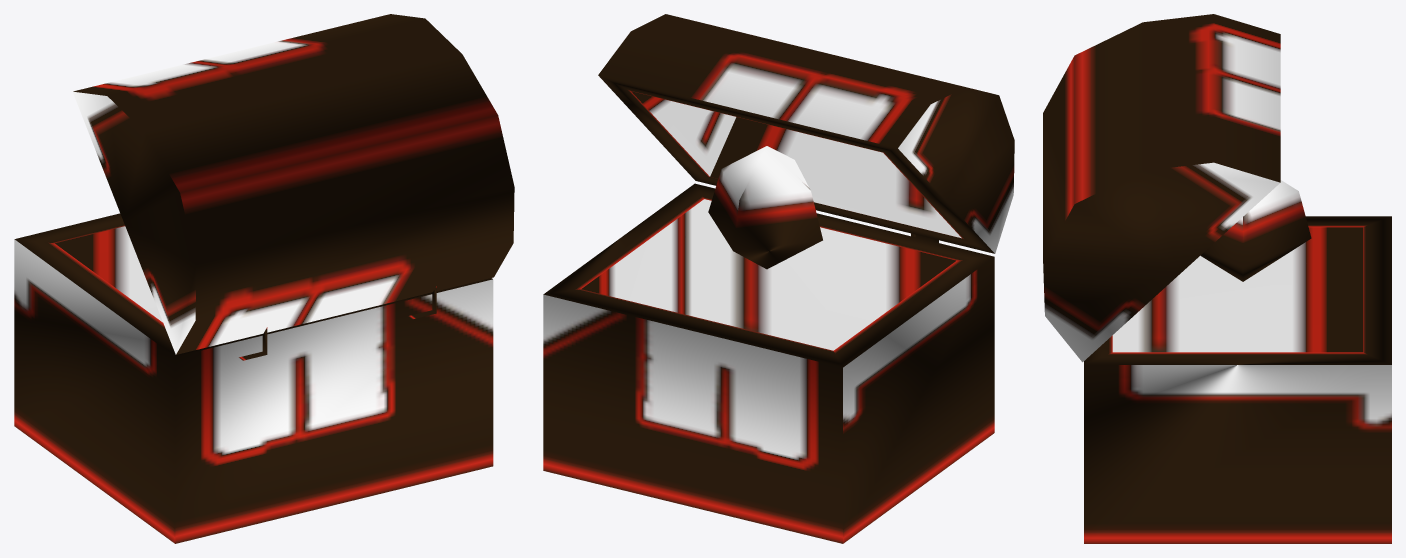
File: list.ico.obj
3 views of the same model, side by side, from view 1: azimuth 30°, elevation 25°; view 2: azimuth 150°, elevation 25°; view 3: azimuth 270°, elevation 25° (orthographic). The views are drawn at different scales.
Size of the model in its own units: 2.49 by 2.98 by 2.47.
